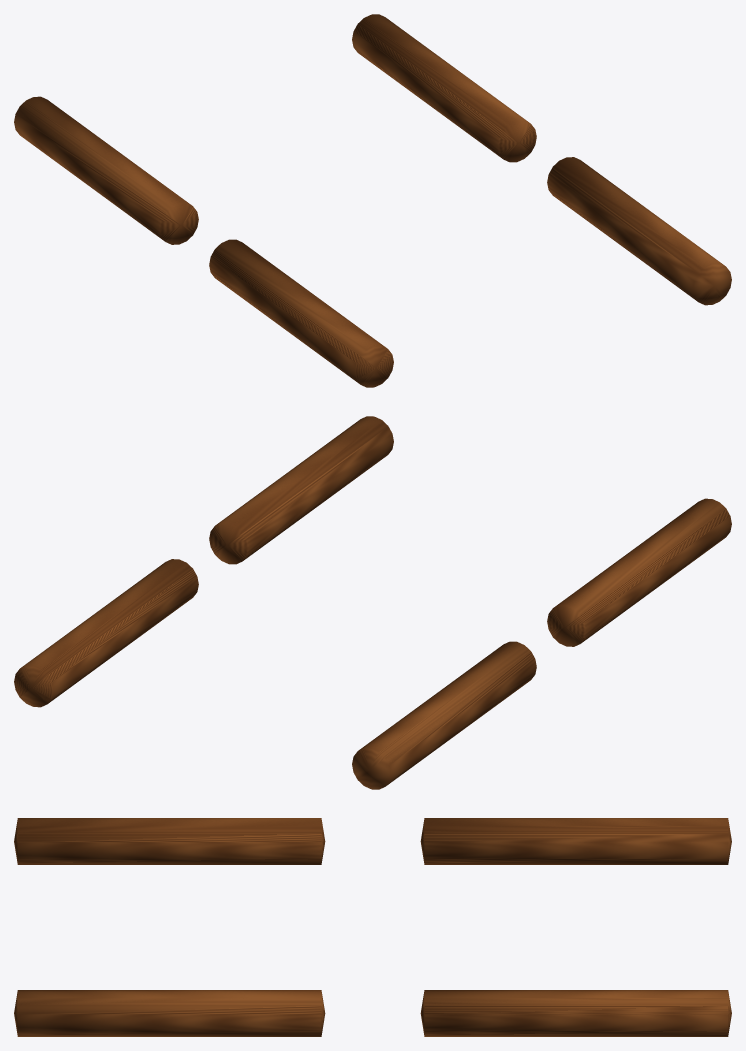
3 renders of one model, top to bottom at view 1: azimuth 30°, elevation 25°; view 2: azimuth 150°, elevation 25°; view 3: azimuth 270°, elevation 25°, orthographic. The views are drawn at different scales.
Visible parts, largest first — view 1: geometry_0; view 2: geometry_0; view 3: geometry_0.
Part boxes in pixels (box(x1,y1,x2,y2)): geometry_0: box(14, 14, 731, 387); geometry_0: box(14, 416, 731, 789); geometry_0: box(14, 818, 731, 1036).
Size of the model in its own units: 0.5688 by 0.0591 by 0.9.
Materials: 1 (1 with a texture image).
